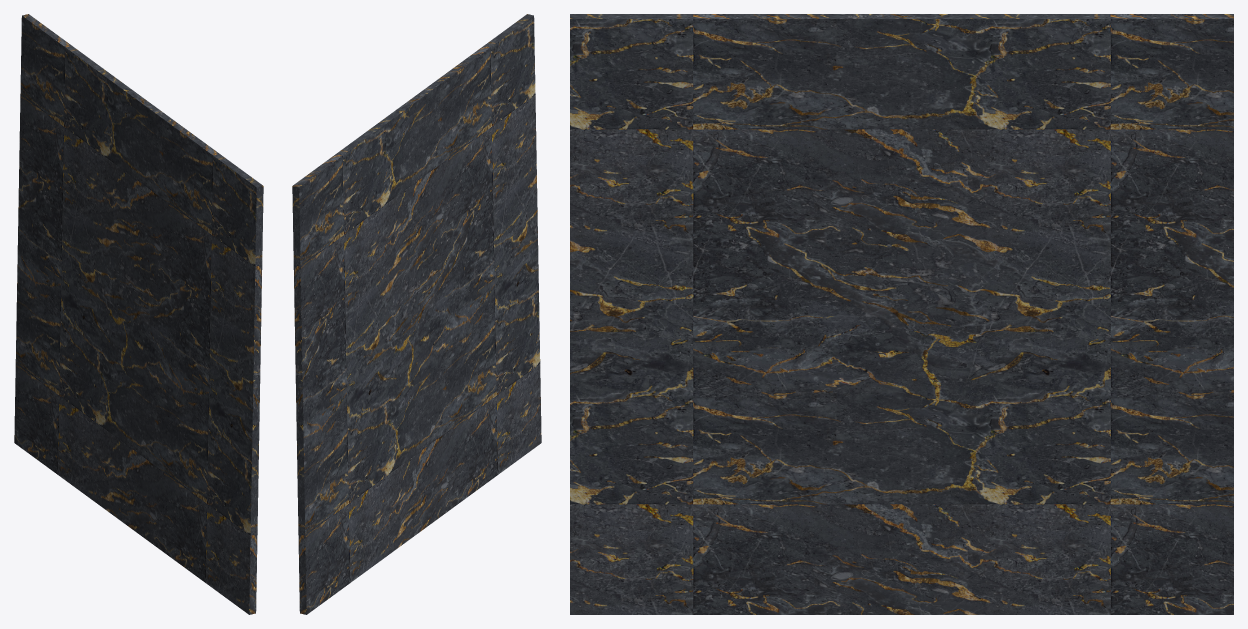
The model's file is LJS - 121 UV Board.glb.
3 views of the same model, side by side, from view 1: azimuth 30°, elevation 25°; view 2: azimuth 150°, elevation 25°; view 3: azimuth 270°, elevation 25° (orthographic). The views are drawn at different scales.
Parts seen in each view (by area): view 1: Plane; view 2: Plane; view 3: Plane.
Part boxes in pixels (left/top/right/bottom): Plane: left=14, top=14, right=263, bottom=614; Plane: left=292, top=14, right=541, bottom=614; Plane: left=570, top=14, right=1233, bottom=614.
Bounding box in the file's own units: 0.0706 × 2 × 2.
Materials: 1 (1 with a texture image).
